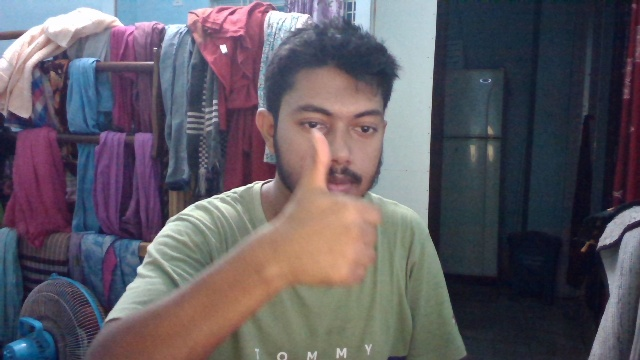yes: (278, 125, 393, 288)
